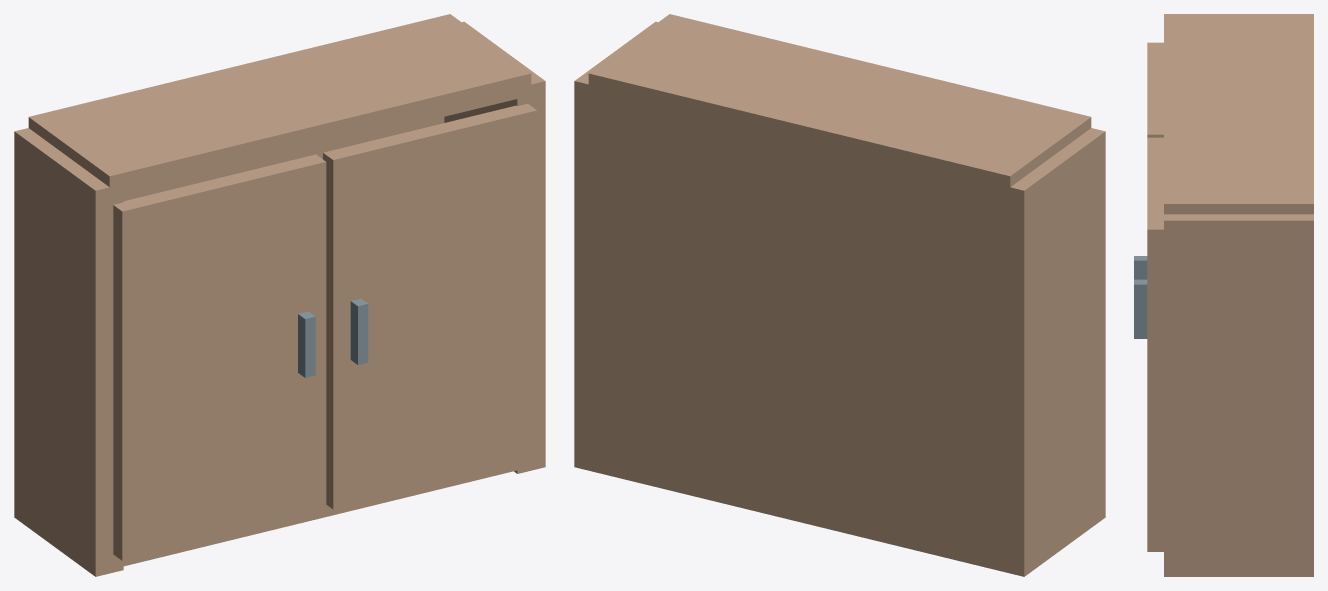
The model's file is cabinet.glb.
The picture shows the model from 3 angles, left to right: view 1: azimuth 30°, elevation 25°; view 2: azimuth 150°, elevation 25°; view 3: azimuth 270°, elevation 25°; orthographic projection. The views are drawn at different scales.
Parts seen in each view (by area): view 1: cabinet_007, cabinet_009, cabinet_006, cabinet_000, cabinet_001, cabinet_003, cabinet_002, cabinet_010, cabinet_008; view 2: cabinet_002, cabinet_000, cabinet_006, cabinet_001, cabinet_003, cabinet_005, cabinet_004; view 3: cabinet_001, cabinet_006, cabinet_009, cabinet_007, cabinet_010, cabinet_008.
Boxes of the visible parts, x1=… form: cabinet_007: x1=113, y1=154, x2=326, y2=560; cabinet_009: x1=323, y1=103, x2=536, y2=509; cabinet_006: x1=28, y1=14, x2=531, y2=197; cabinet_000: x1=14, y1=128, x2=123, y2=576; cabinet_001: x1=444, y1=21, x2=545, y2=473; cabinet_003: x1=111, y1=464, x2=517, y2=567; cabinet_002: x1=123, y1=117, x2=444, y2=200; cabinet_010: x1=350, y1=298, x2=368, y2=364; cabinet_008: x1=298, y1=311, x2=315, y2=377; cabinet_002: x1=588, y1=86, x2=1010, y2=572; cabinet_000: x1=996, y1=128, x2=1105, y2=576; cabinet_006: x1=588, y1=14, x2=1091, y2=197; cabinet_001: x1=574, y1=21, x2=657, y2=473; cabinet_003: x1=588, y1=446, x2=1010, y2=569; cabinet_005: x1=588, y1=202, x2=1009, y2=326; cabinet_004: x1=589, y1=331, x2=1009, y2=455; cabinet_001: x1=1164, y1=214, x2=1313, y2=576; cabinet_006: x1=1164, y1=14, x2=1313, y2=214; cabinet_009: x1=1147, y1=137, x2=1163, y2=551; cabinet_007: x1=1147, y1=42, x2=1163, y2=137; cabinet_010: x1=1134, y1=279, x2=1147, y2=338; cabinet_008: x1=1134, y1=256, x2=1147, y2=279.
Size of the model in its own units: 1.28 by 1.08 by 0.48.
